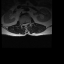CCS_normal: (24, 22, 26, 28)
LFS_normal: (28, 21, 29, 25)
LLS_normal: (26, 22, 28, 26)
RFS_normal: (21, 22, 23, 27)
RLS_normal: (23, 22, 24, 27)
